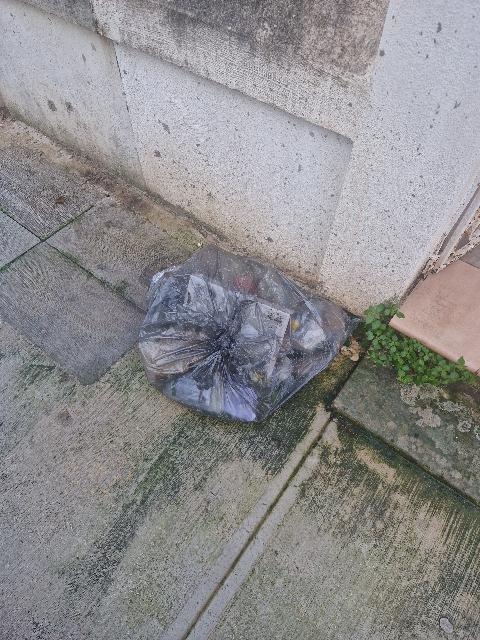Recyclable -Grey-: (139, 245, 353, 422)
